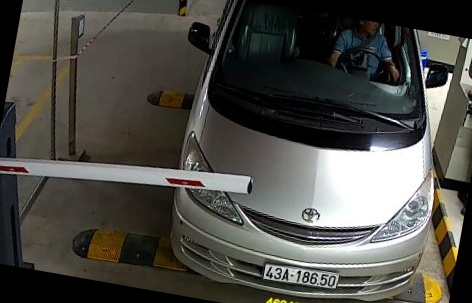plate: (256, 249, 333, 289)
